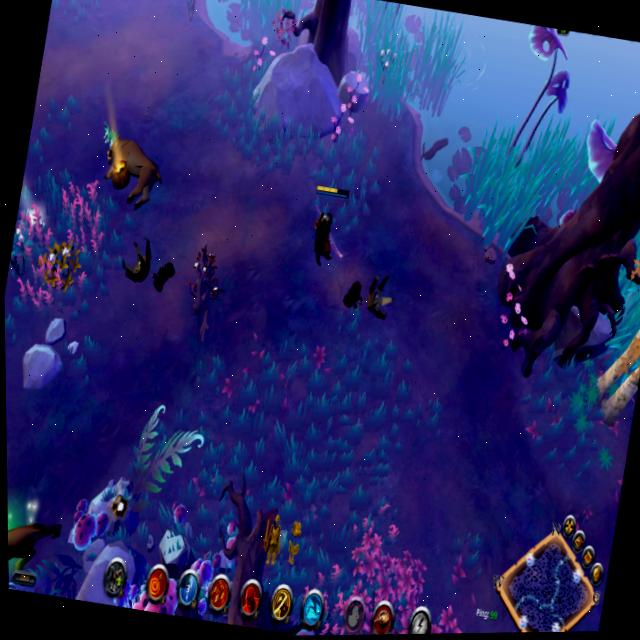hide: (171, 235, 234, 349), (6, 206, 40, 284), (164, 0, 211, 32)
mob: (87, 117, 175, 218)
ore: (7, 480, 74, 597)
red: (297, 177, 356, 273)
wisp caged: (584, 190, 640, 428)
